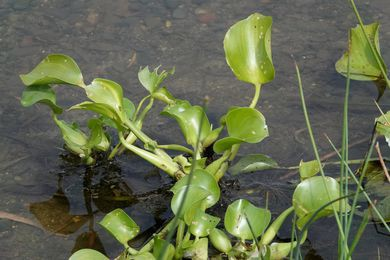water_hyacinth: (17, 12, 389, 260)
